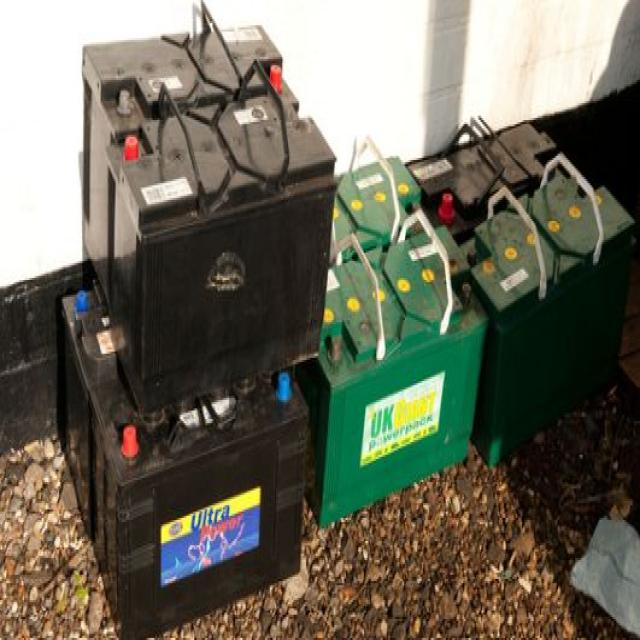electronic: (69, 21, 338, 381)
